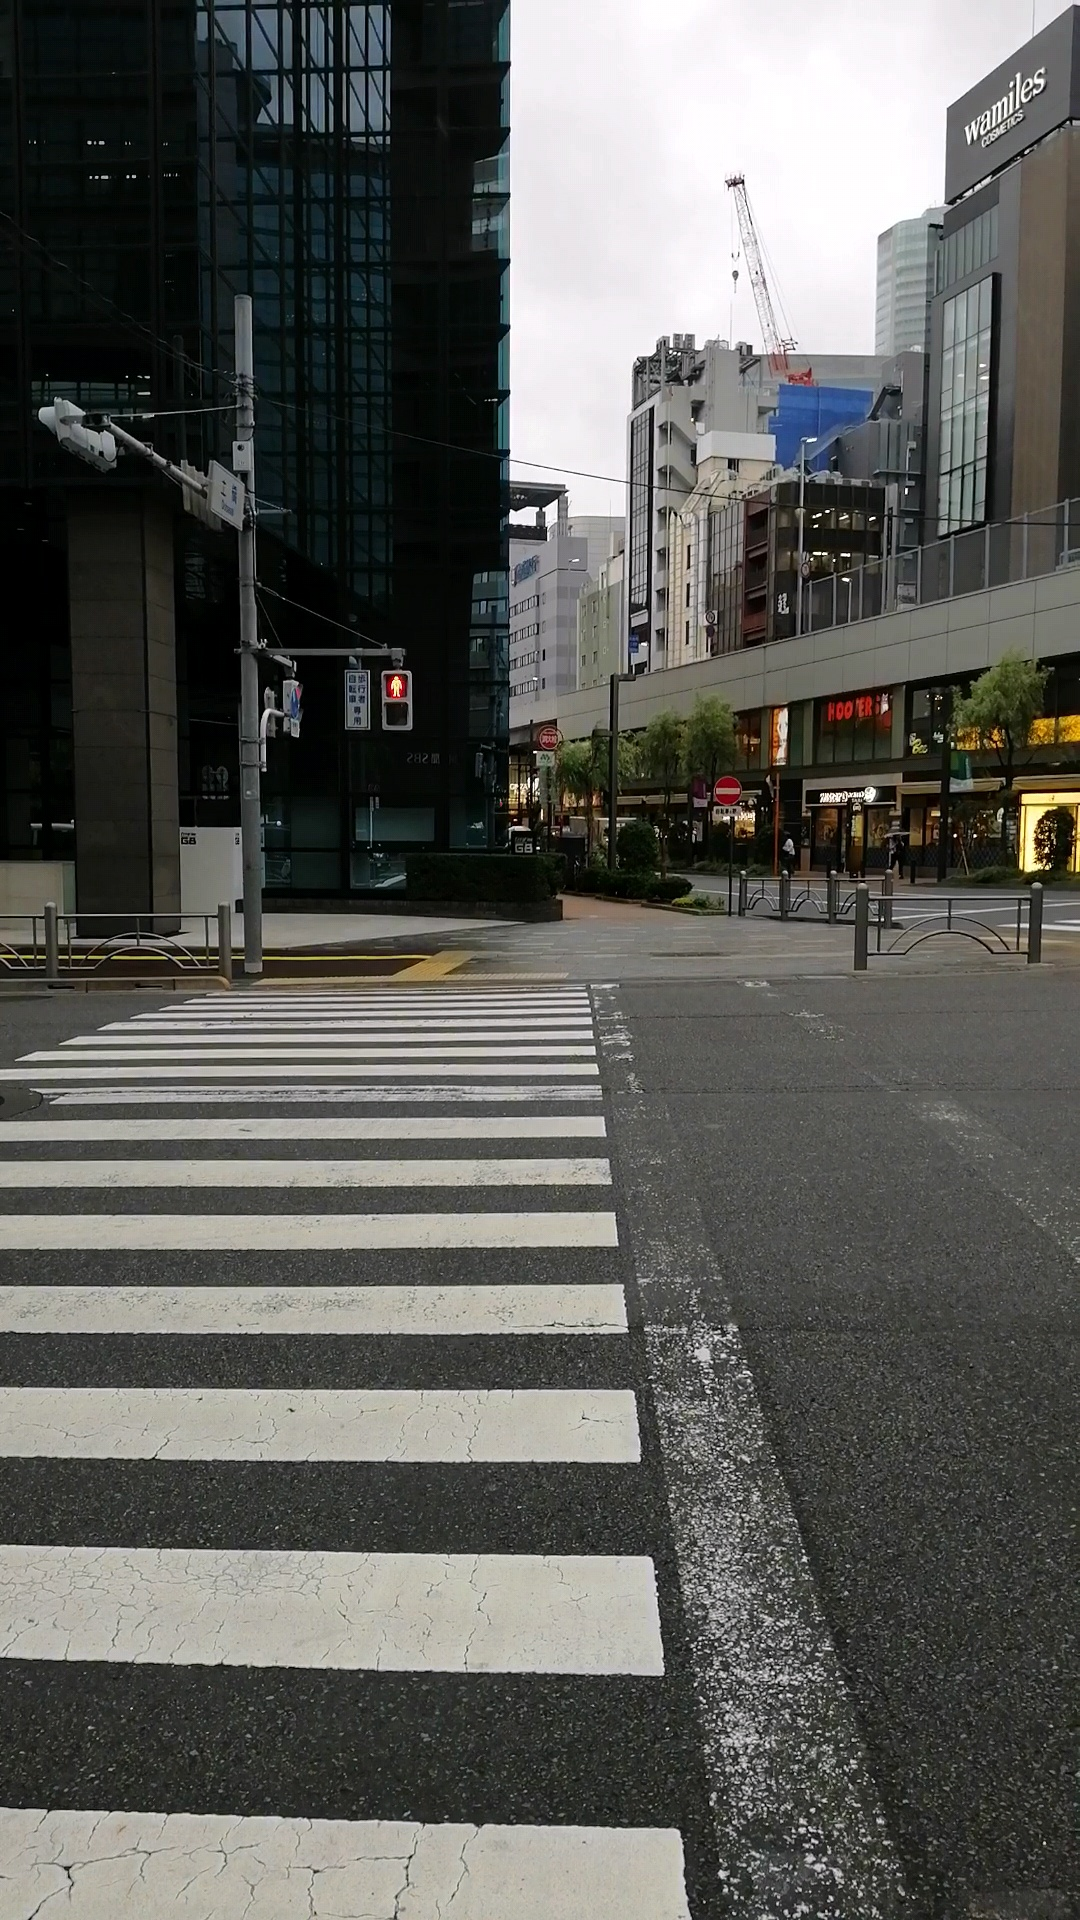red: (380, 669, 411, 731)
